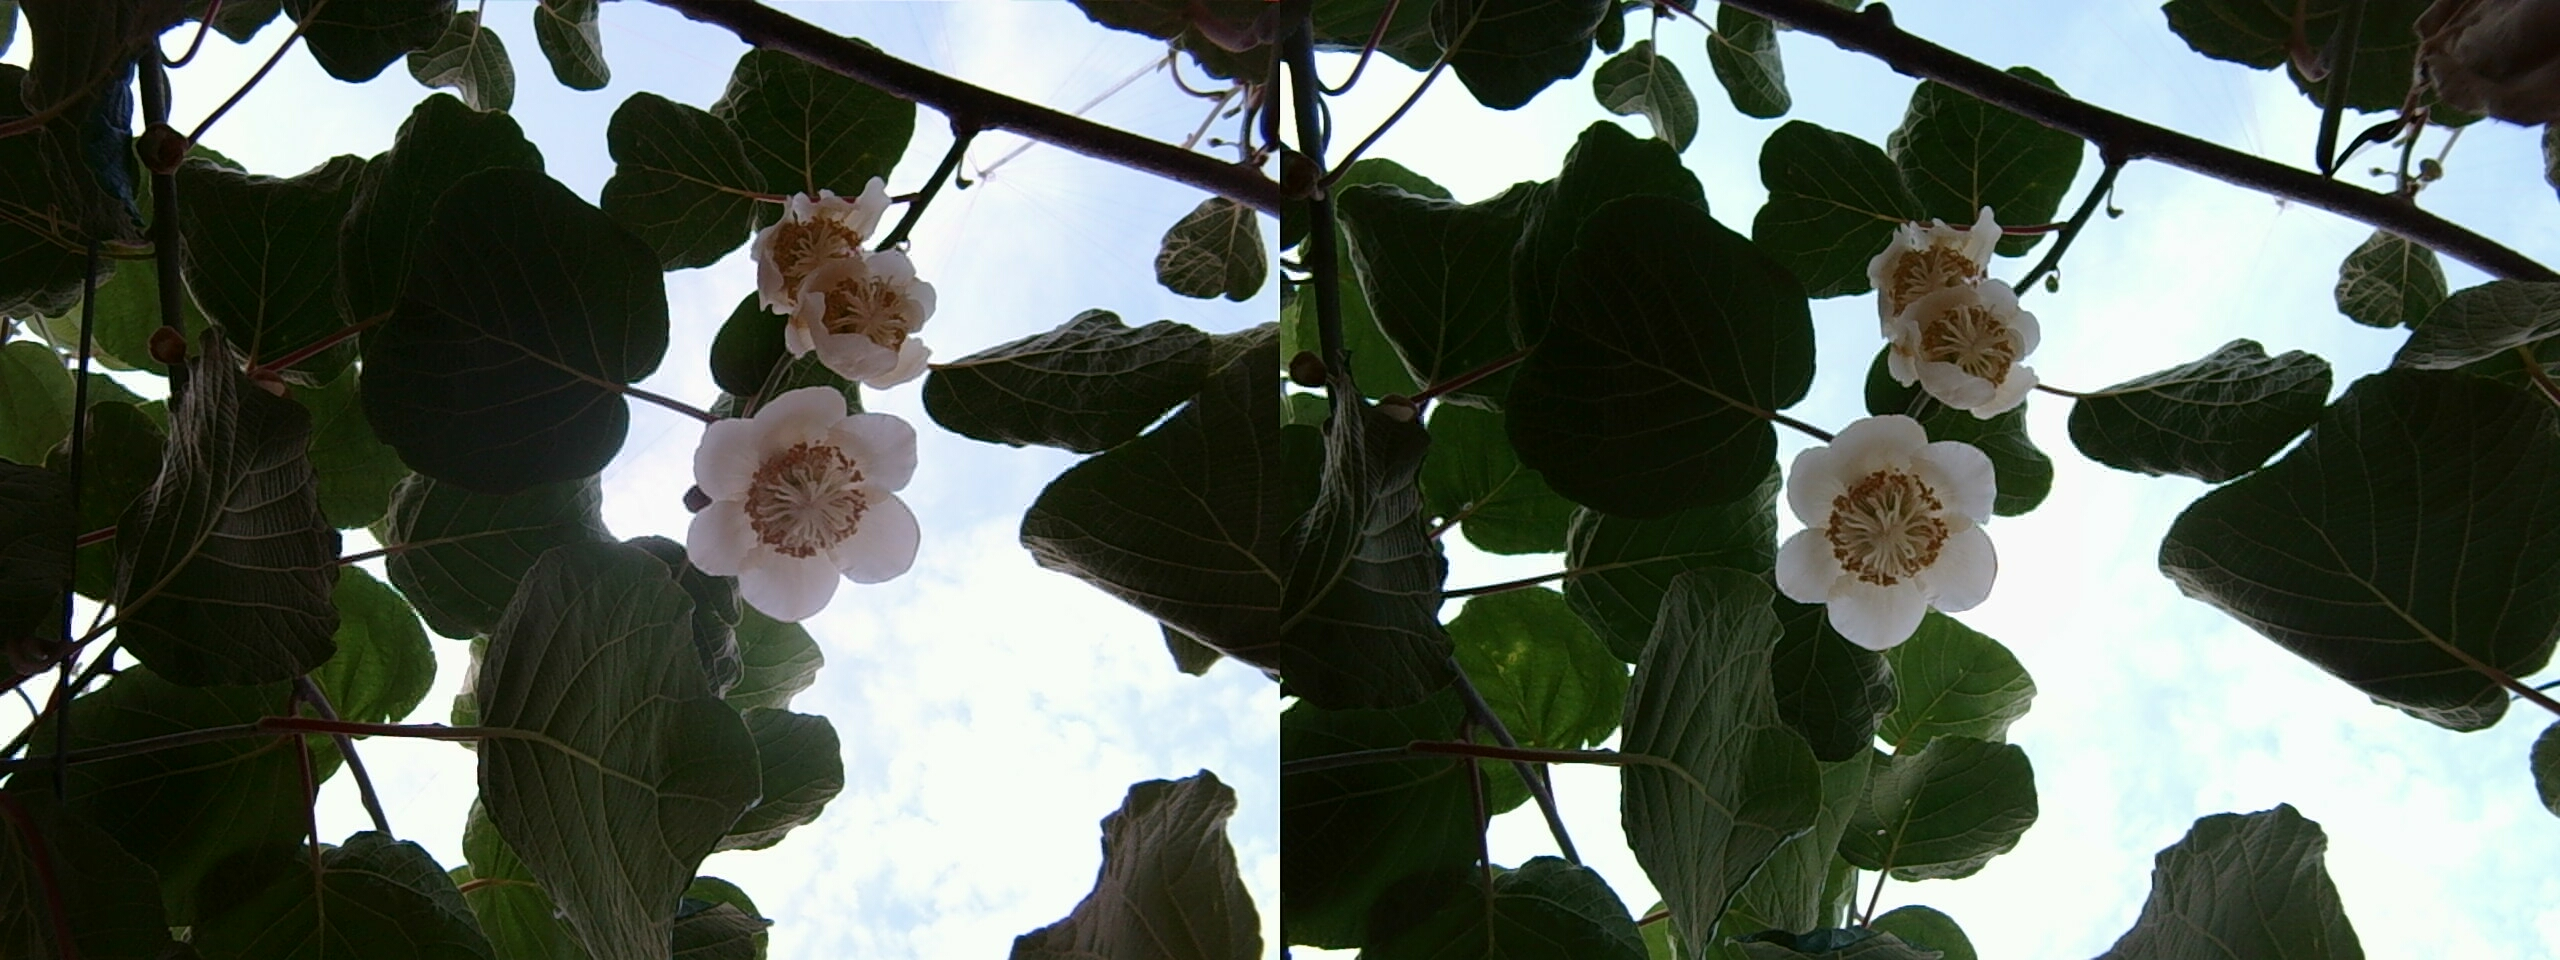flower: (1763, 402, 2005, 648), (673, 382, 924, 616), (1873, 230, 2046, 413), (776, 232, 936, 384), (754, 181, 883, 331)
